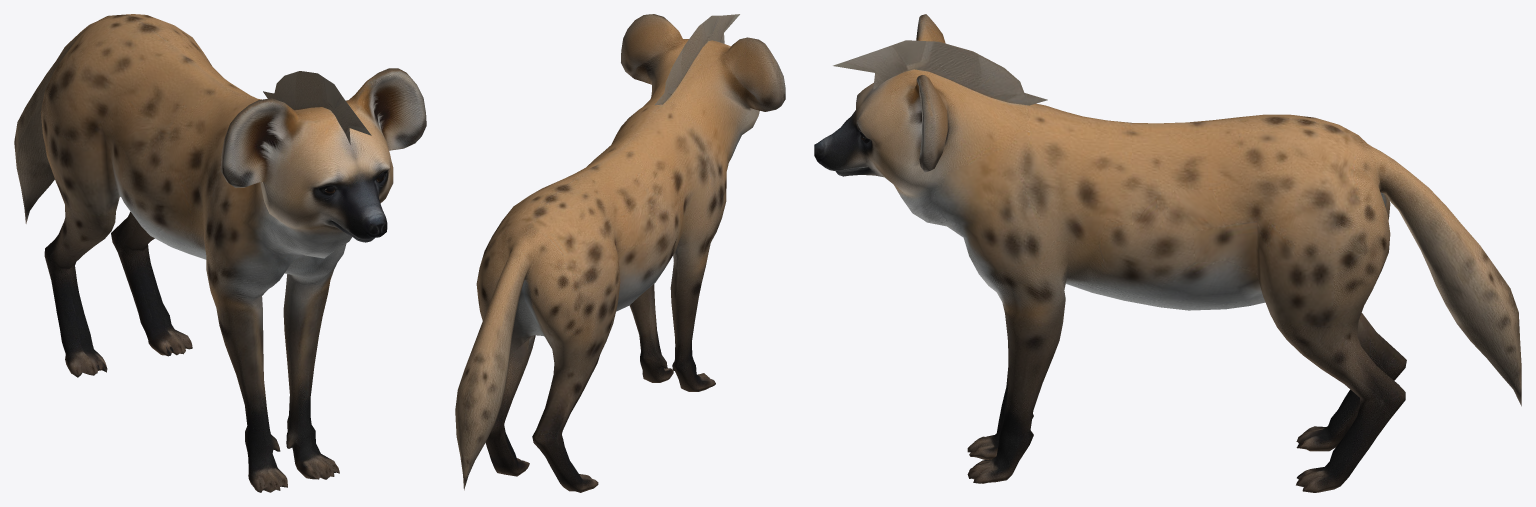
Rendered from spotted-hyena.glb.
The picture shows the model from 3 angles, left to right: view 1: azimuth 30°, elevation 25°; view 2: azimuth 150°, elevation 25°; view 3: azimuth 270°, elevation 25°; orthographic projection. The views are drawn at different scales.
Bounding box in the file's own units: 0.3301 × 0.666 × 1.
1 material, 1 textured.
